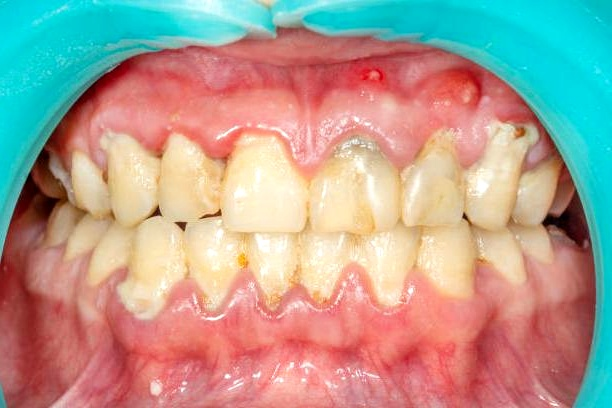Gingivitis: (90, 329, 459, 405), (176, 59, 400, 101), (466, 306, 564, 400), (413, 70, 482, 111)
